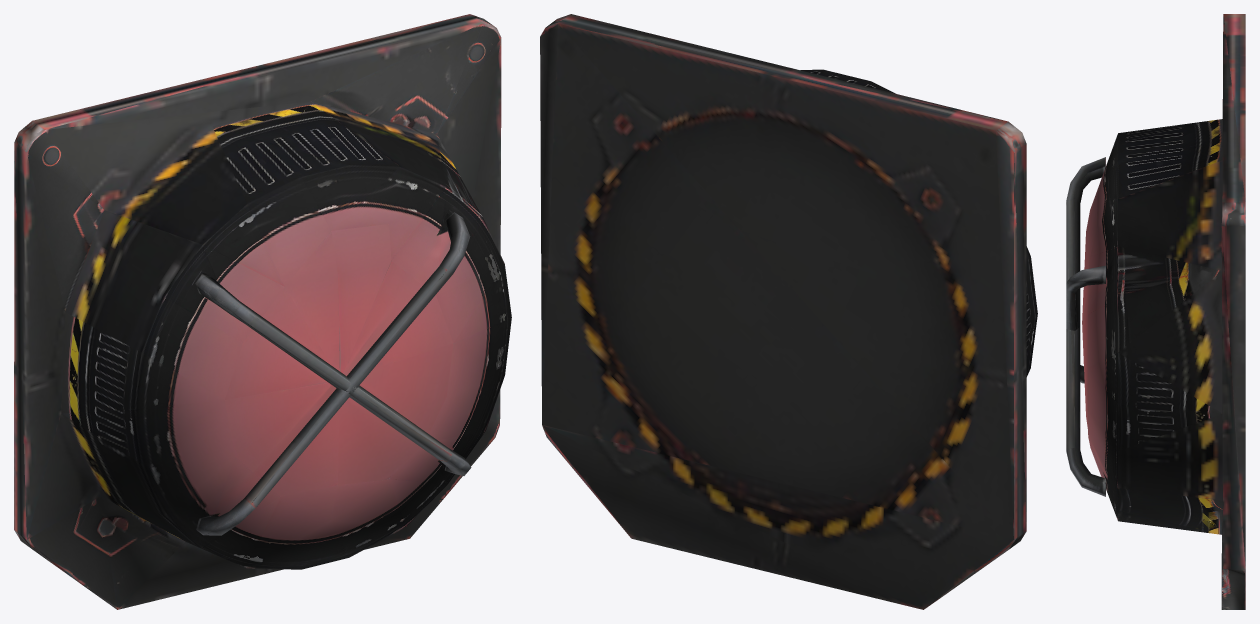
The model's file is lamp_emergency.glb.
3 views of the same model, side by side, from view 1: azimuth 30°, elevation 25°; view 2: azimuth 150°, elevation 25°; view 3: azimuth 270°, elevation 25° (orthographic). The views are drawn at different scales.
Parts seen in each view (by area): view 1: lamp_emergency; view 2: lamp_emergency; view 3: lamp_emergency.
Boxes of the visible parts, x1=… form: lamp_emergency: x1=14, y1=14, x2=511, y2=609; lamp_emergency: x1=540, y1=14, x2=1037, y2=609; lamp_emergency: x1=1066, y1=14, x2=1245, y2=609.
Size of the model in its own units: 0.5985 by 0.6 by 0.2218.
1 material, 1 textured.
